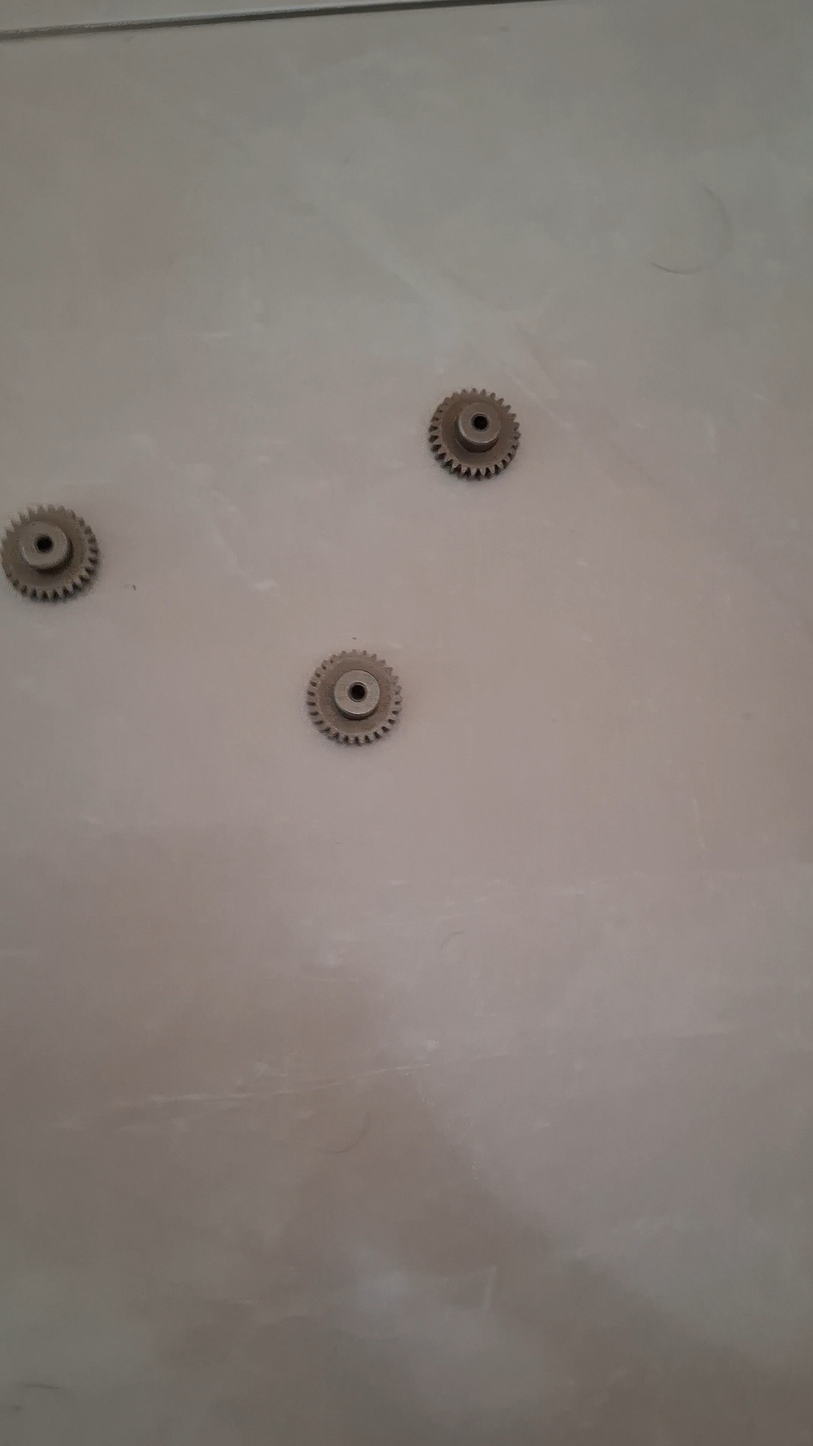spur gear: (0, 506, 99, 600), (307, 651, 401, 744), (429, 390, 519, 478)
